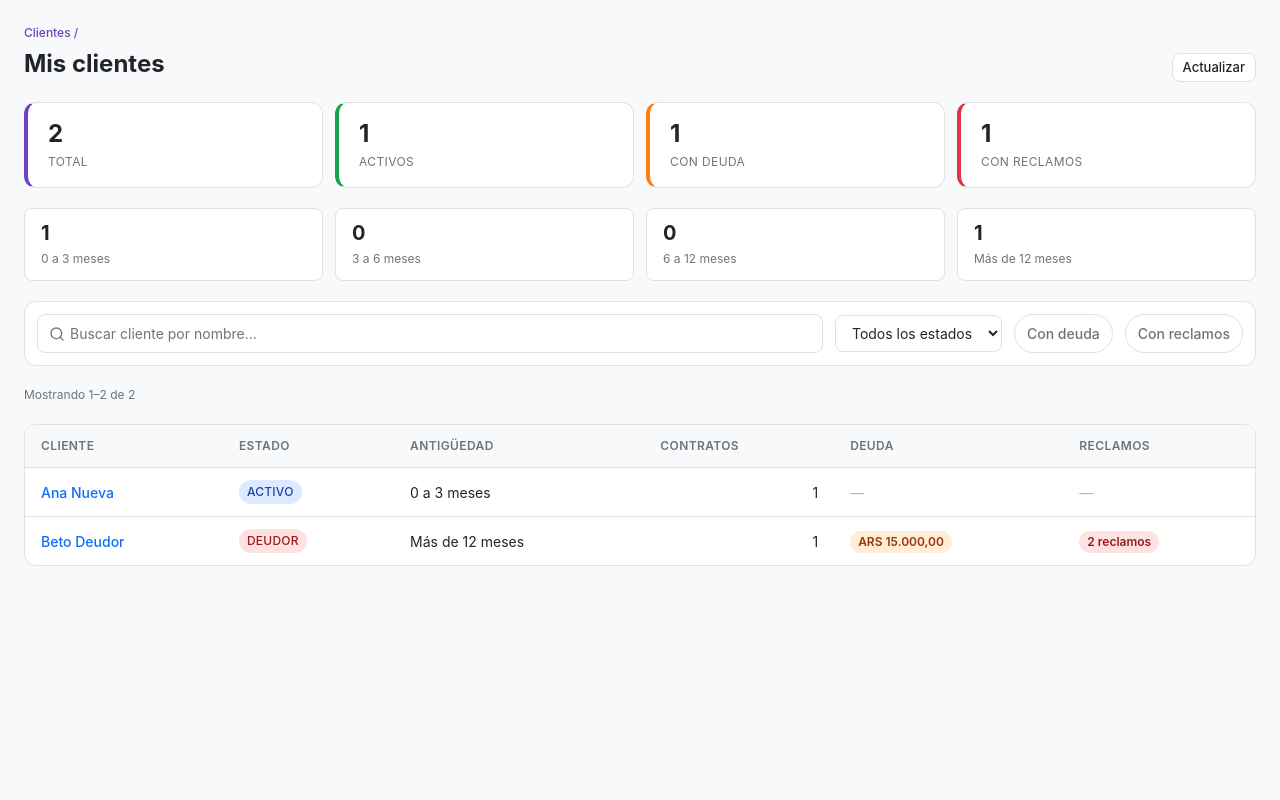
Test: MisClientesPage › the "Con deuda" toggle keeps only clients with debt
This screenshot has width=1280, height=800.
Click the button "Con deuda". click: (1063, 334)
box: [1014,314,1113,353]
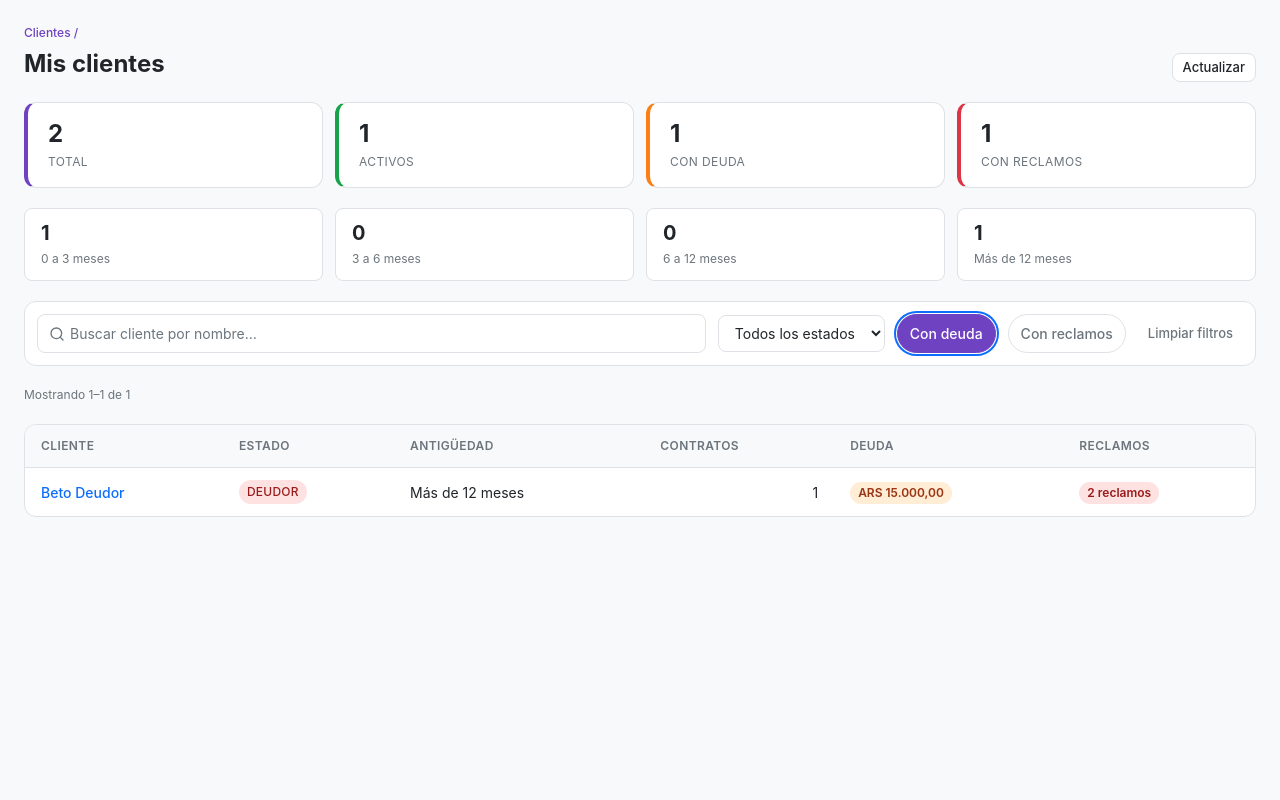
Check: the link "Beto Deudor" is shown, box [41,484,124,500]
Check: the link "Ana Nueva" is gone
